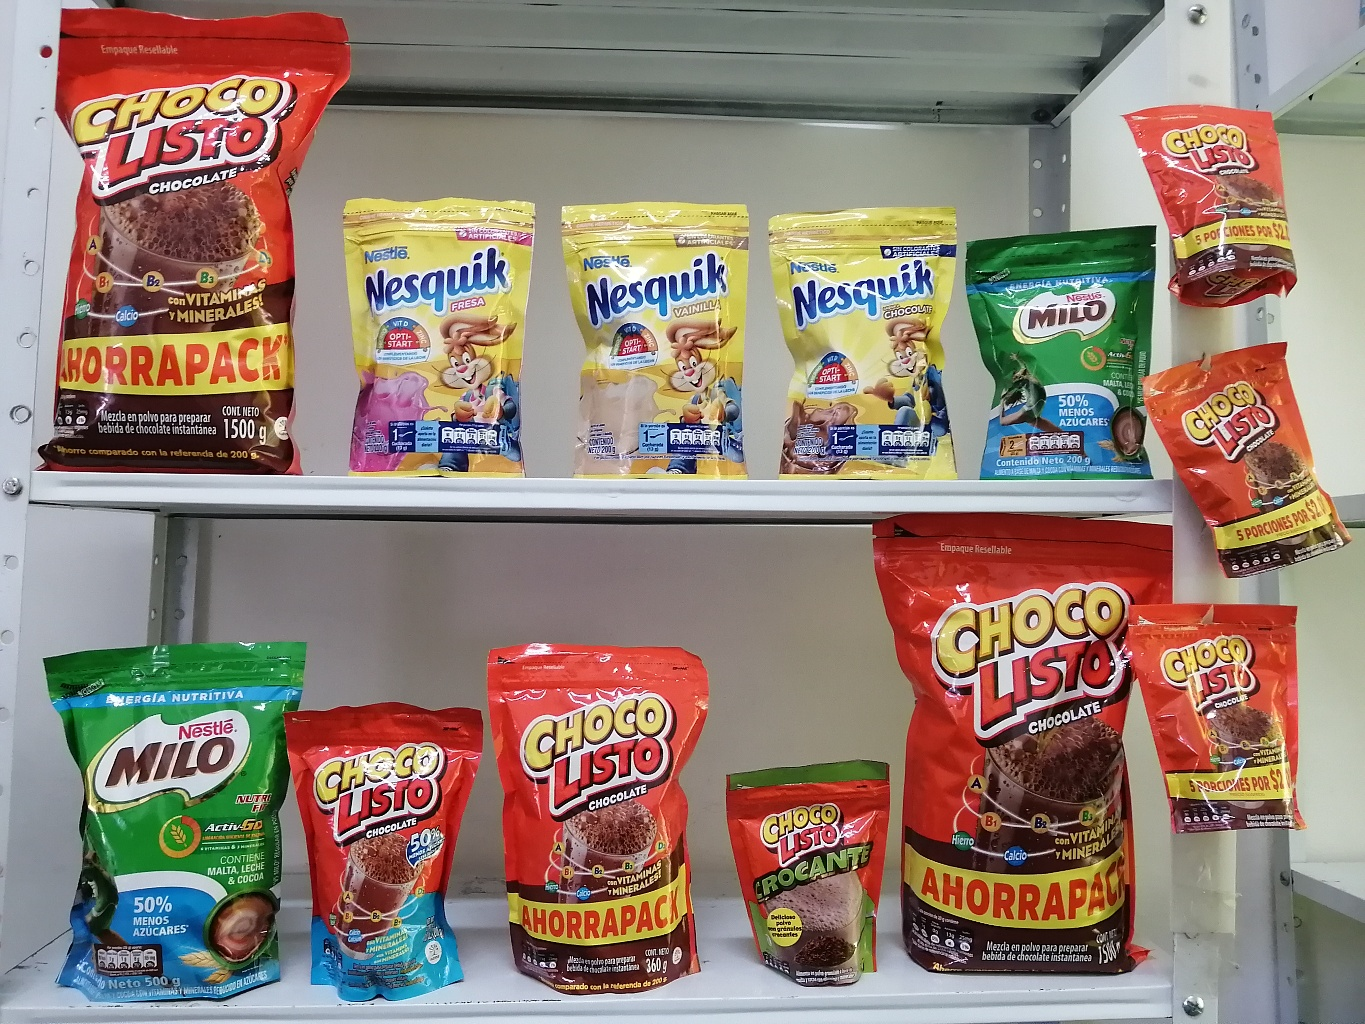COL0170102DYP10000: (709, 746, 909, 993)
COL0170103DYP1,500: (24, 1, 364, 486)
COL0170103DYP10000: (1114, 95, 1318, 312)
COL0170103DYP36000: (466, 624, 739, 1005)
COL0170104DYP20000: (274, 689, 509, 1009)
COL0170205DYP20000: (945, 216, 1174, 487)
COL0170205DYP50000: (28, 620, 311, 1012)
COL0170303DYP20000: (749, 195, 976, 487)
COL0170305DYP20000: (326, 180, 539, 484)
COL0170306DYP20000: (548, 195, 762, 482)
